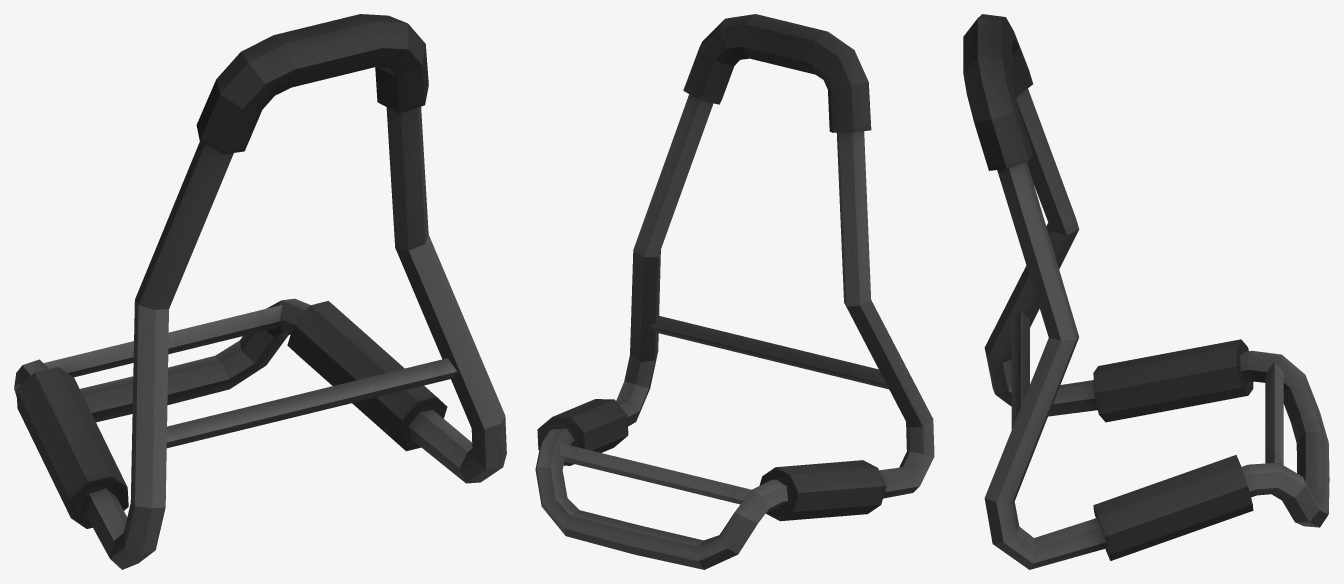
File: P_Stand_001_S1_M01.obj
3 views of the same model, side by side, from view 1: azimuth 30°, elevation 25°; view 2: azimuth 150°, elevation 25°; view 3: azimuth 270°, elevation 25° (orthographic). The views are drawn at different scales.
Size of the model in its own units: 0.4648 by 0.6001 by 0.4373.
Materials: 1 (1 with a texture image).
